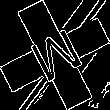M_SE: (23, 22, 87, 88)
